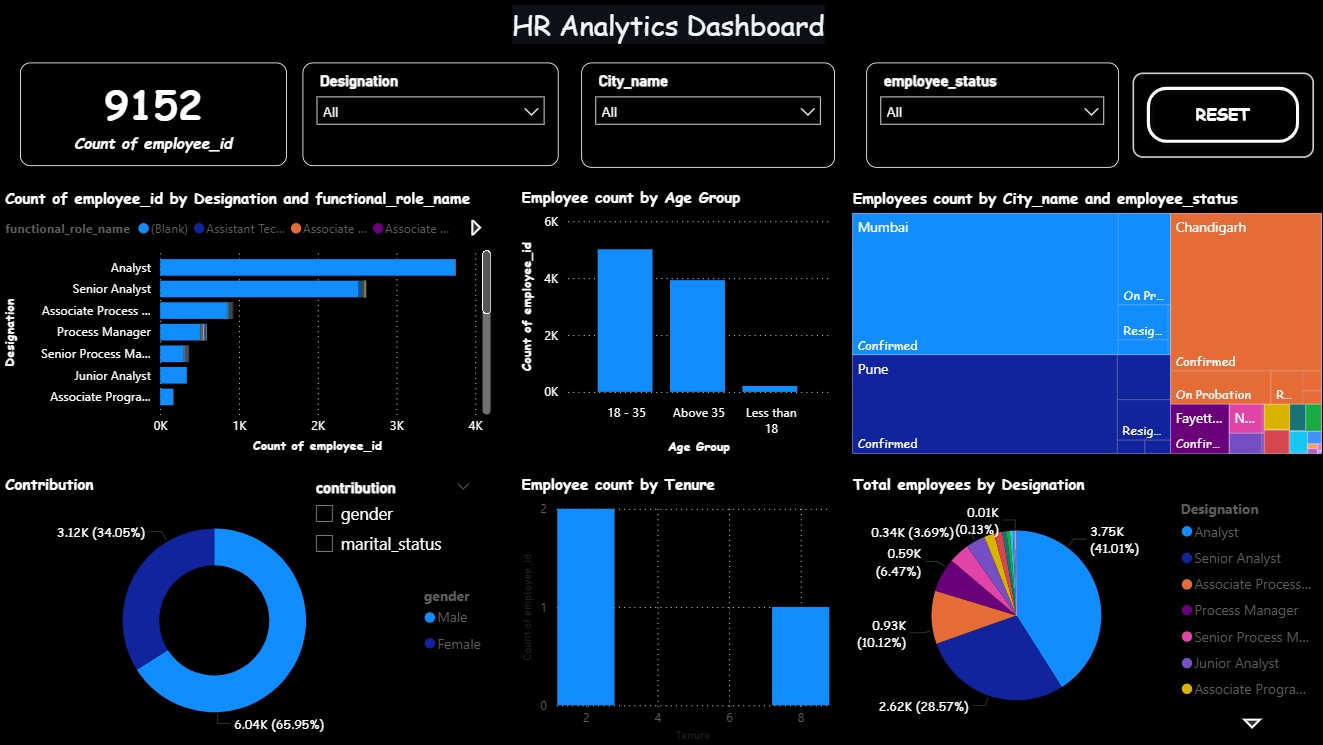

This screenshot's page, from the dashboard's own definition file:
{"tool":"tableau","page":{"name":"Dashboard 1","canvas":[1000,1000],"units":"permille","ordinal":0},"visuals":[{"type":"text","box":[7.8,10,827.5,68.6]},{"type":"filter","title":"Total Employees Designation wise","param":"[federated.1dr1wkv0x8e83q16ght8w1mxmb5f].[none:Designation:nk]","box":[835.3,10,156.9,112.2]},{"type":"worksheet","title":"Total Employees Designation wise","mark":"Automatic","rows":["Designation"],"cols":["employee_id"],"box":[7.8,78.6,479.4,254.4]},{"type":"worksheet","title":"Gender Contribution","mark":"Pie","box":[487.2,78.6,348.1,254.4]},{"type":"filter","title":"Employee count by City and status","param":"[federated.1dr1wkv0x8e83q16ght8w1mxmb5f].[none:City_name:nk]","box":[835.3,122.2,156.9,109.7]},{"type":"filter","title":"Employee count by City and status","param":"[federated.1dr1wkv0x8e83q16ght8w1mxmb5f].[none:employee_status:nk]","box":[835.3,231.9,156.9,101]},{"type":"worksheet","title":"Designation & Functional Role","mark":"Automatic","rows":["employee_id"],"cols":["Designation"],"box":[410.9,332.9,424.4,270.6]},{"type":"filter","title":"Marital Status Contribution","param":"[federated.1dr1wkv0x8e83q16ght8w1mxmb5f].[none:marital_status:nk]","box":[835.3,332.9,156.9,116]},{"type":"worksheet","title":"Employees count by Tenure","mark":"Automatic","rows":["employee_id"],"cols":["Calculation_1113515011868635136"],"box":[8.8,334.2,401.1,268.1]},{"type":"filter","title":"Gender Contribution","param":"[federated.1dr1wkv0x8e83q16ght8w1mxmb5f].[none:gender:nk]","box":[835.3,448.9,156.9,113.5]},{"type":"filter","title":"Designation & Functional Role","param":"[federated.1dr1wkv0x8e83q16ght8w1mxmb5f].[none:functional_role_name:nk]","box":[835.3,562.4,156.9,116]},{"type":"worksheet","title":"Employee Count by Age Groups","mark":"Automatic","rows":["employee_id"],"cols":["Calculation_1113515011920904194"],"box":[7.8,603.5,242.2,386.5]},{"type":"worksheet","title":"Employee count by City and status","mark":"Automatic","box":[250,603.5,262.7,386.5]},{"type":"worksheet","title":"Marital Status Contribution","mark":"Automatic","rows":["Calculation_1113515011921854467","Calculation_1113515011921854467"],"box":[512.7,603.5,322.6,386.5]}]}

Visuals, with their boxes on the dashboard's canvas, which has no fixed pixel size, in thousandths of its width and height (x1, y1, x2, y2). These are canvas units, not pixel positions in the 1323x745 screenshot, which may show the page scaled, cropped or inside an application window:
text: x1=8, y1=10, x2=835, y2=79
"Total Employees Designation wise" filter: x1=835, y1=10, x2=992, y2=122
"Total Employees Designation wise" worksheet: x1=8, y1=79, x2=487, y2=333
"Gender Contribution" worksheet (Pie marks): x1=487, y1=79, x2=835, y2=333
"Employee count by City and status" filter: x1=835, y1=122, x2=992, y2=232
"Employee count by City and status" filter: x1=835, y1=232, x2=992, y2=333
"Designation & Functional Role" worksheet: x1=411, y1=333, x2=835, y2=604
"Marital Status Contribution" filter: x1=835, y1=333, x2=992, y2=449
"Employees count by Tenure" worksheet: x1=9, y1=334, x2=410, y2=602
"Gender Contribution" filter: x1=835, y1=449, x2=992, y2=562
"Designation & Functional Role" filter: x1=835, y1=562, x2=992, y2=678
"Employee Count by Age Groups" worksheet: x1=8, y1=604, x2=250, y2=990
"Employee count by City and status" worksheet: x1=250, y1=604, x2=513, y2=990
"Marital Status Contribution" worksheet: x1=513, y1=604, x2=835, y2=990
